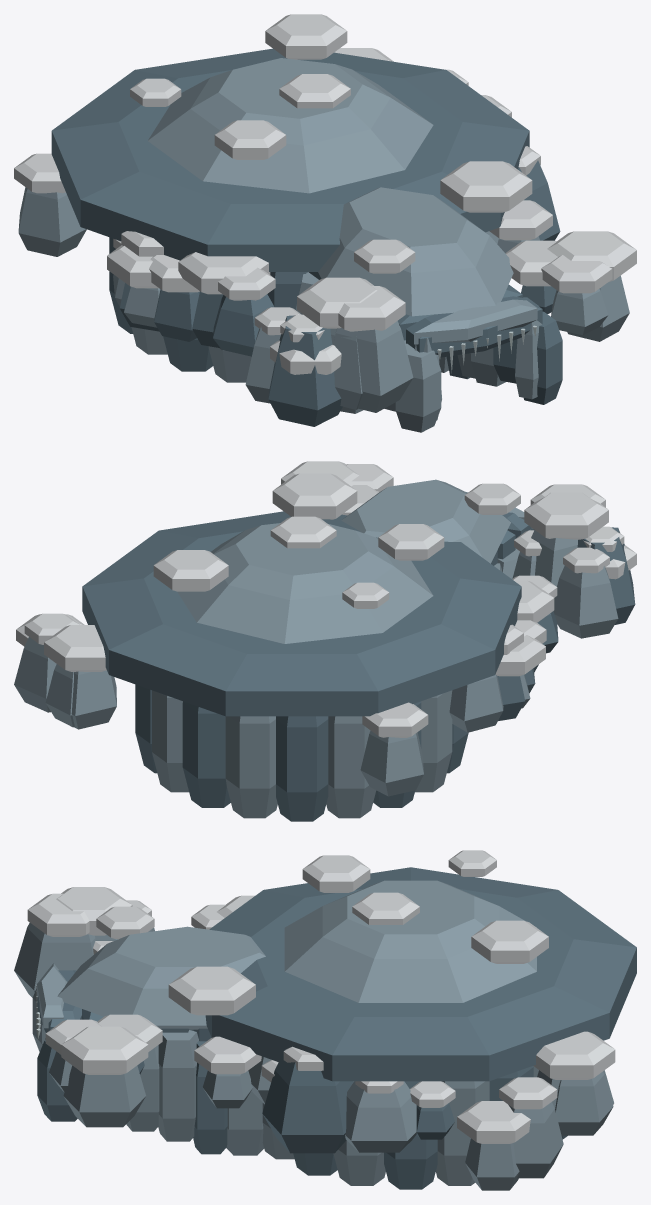
File: cave_snow.glb
The picture shows the model from 3 angles, top to bottom: view 1: azimuth 30°, elevation 25°; view 2: azimuth 150°, elevation 25°; view 3: azimuth 270°, elevation 25°; orthographic projection. The views are drawn at different scales.
Visible parts, largest first — view 1: cave_snow; view 2: cave_snow; view 3: cave_snow.
Boxes of the visible parts, box(x1,y1,x2,y2) form: cave_snow: box(14, 14, 636, 432); cave_snow: box(14, 461, 636, 821); cave_snow: box(14, 850, 636, 1190).
Bounding box in the file's own units: 41.31 × 20.23 × 50.2.
